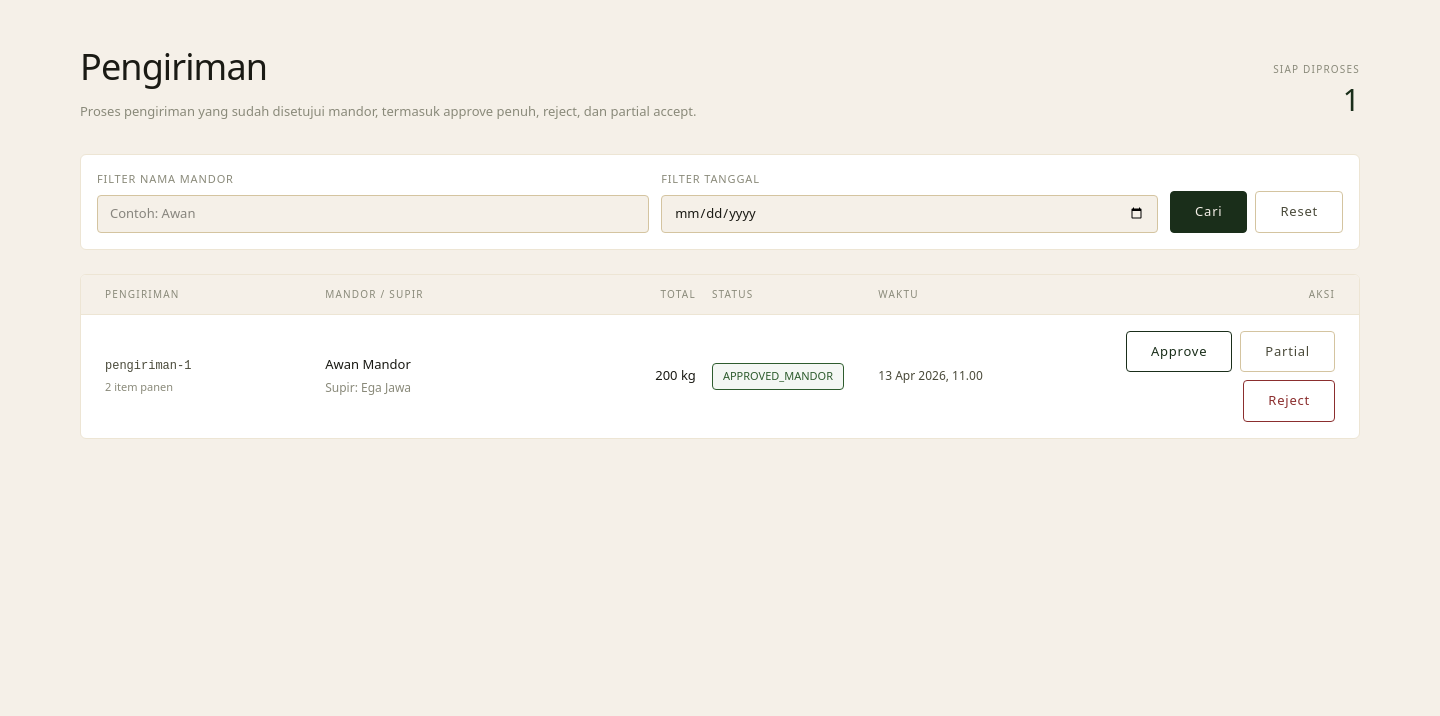
it: AdminPengirimanPage › validates partial accept input before submitting
Click the button "Partial" at [1288, 351], box [1240,330,1335,372]
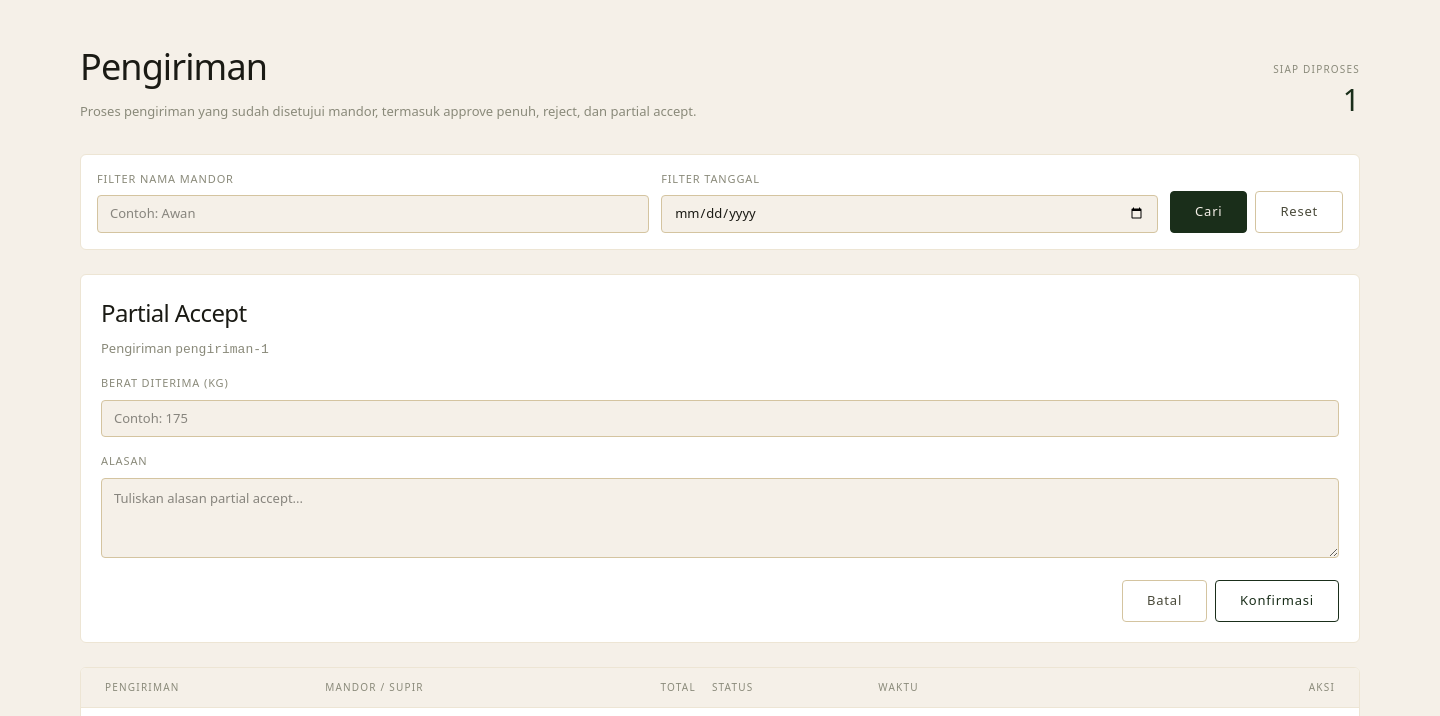
Click the button "Konfirmasi" at [1277, 601], box [1215,580,1339,622]
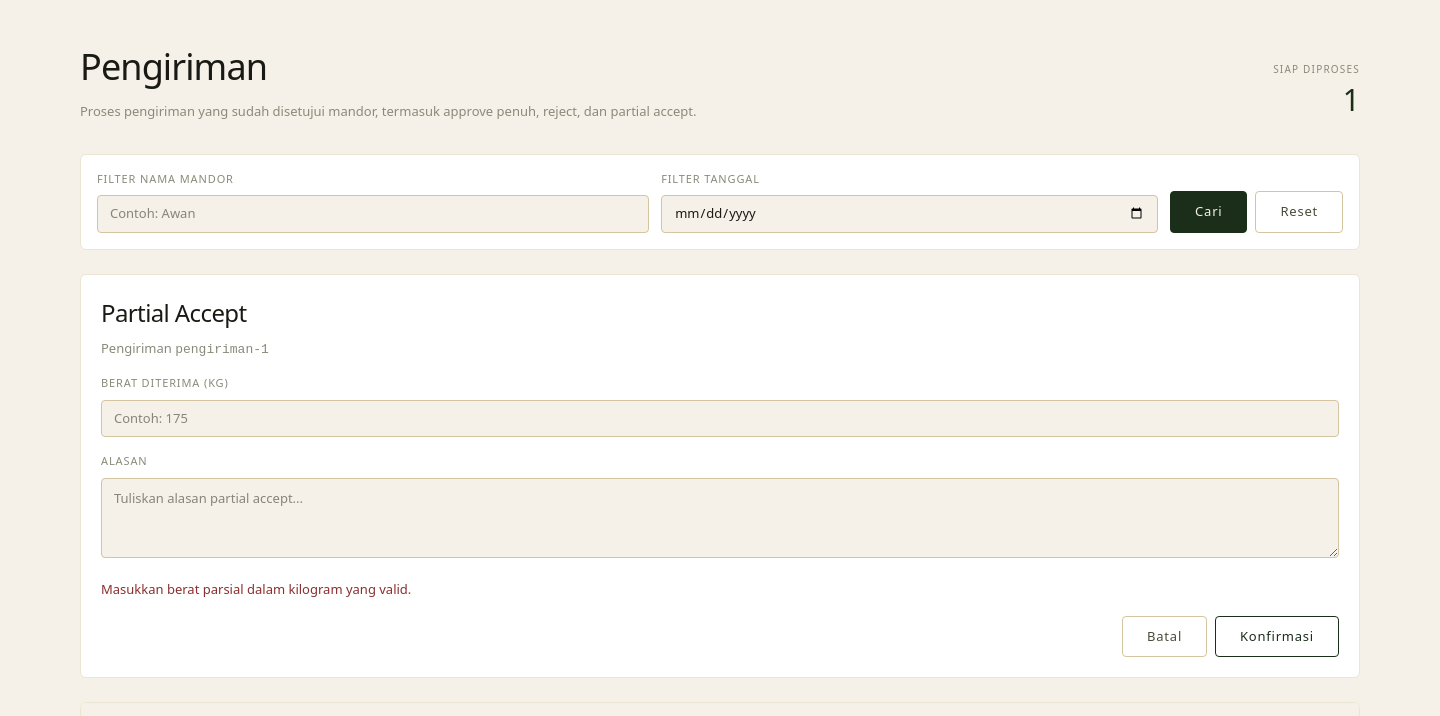
Expected: the text "Masukkan berat parsial dalam kilogram yang valid." is shown, [101,580,411,598]
Type "200" into the field with placeholder "Contoh: 175" at [720, 418], box [101,400,1339,437]
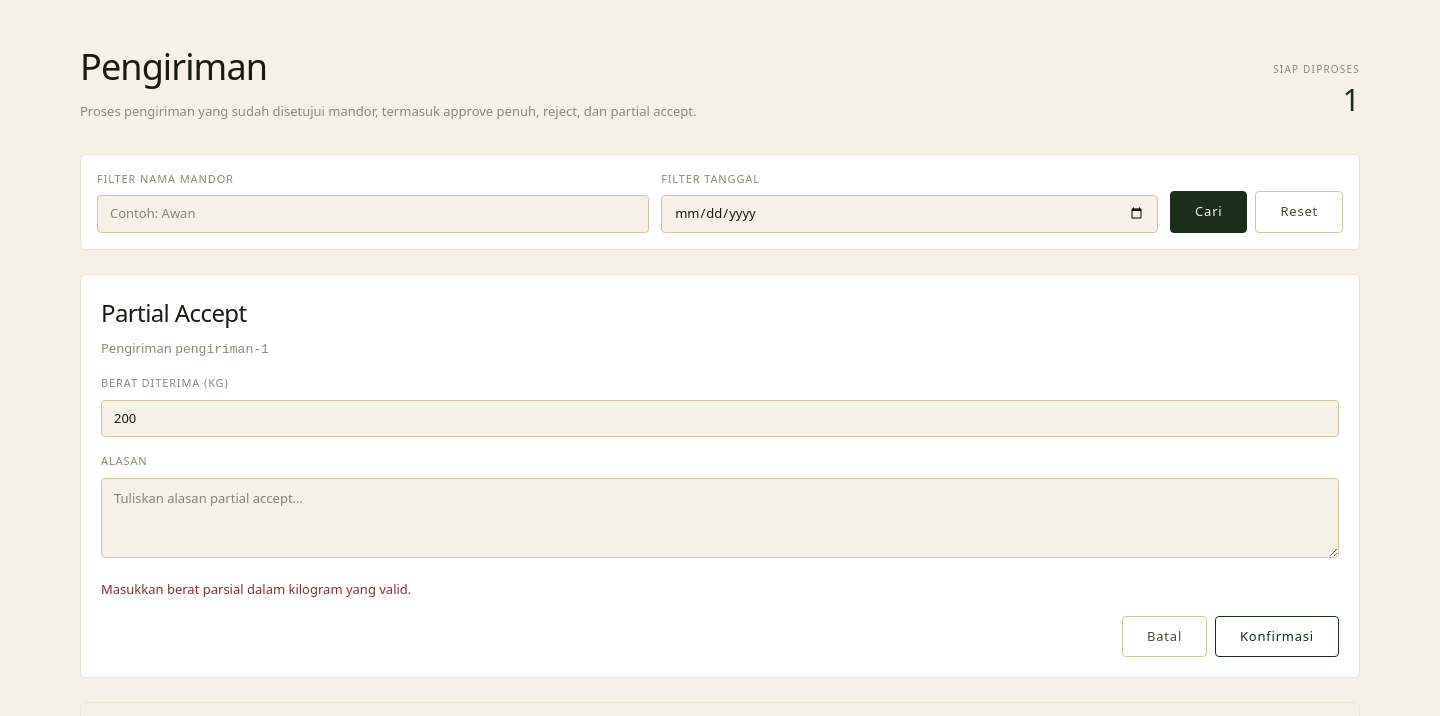
Click the button "Konfirmasi" at [1277, 636], box [1215,616,1339,657]
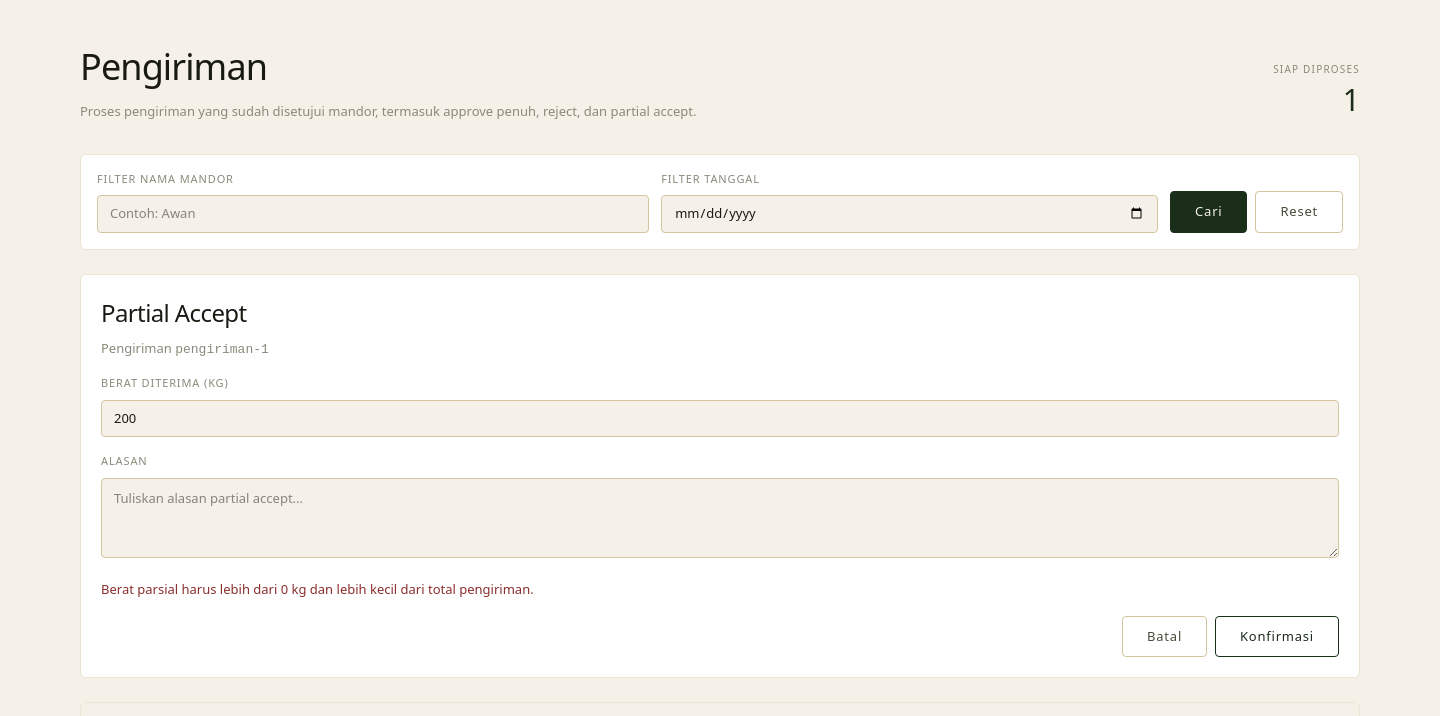
Expected: the text "lebih kecil dari total pengiriman" is shown, [101,580,534,598]
Replace the text in the field with placeholder "Contoh: 175" with "175" at [720, 418], box [101,400,1339,437]
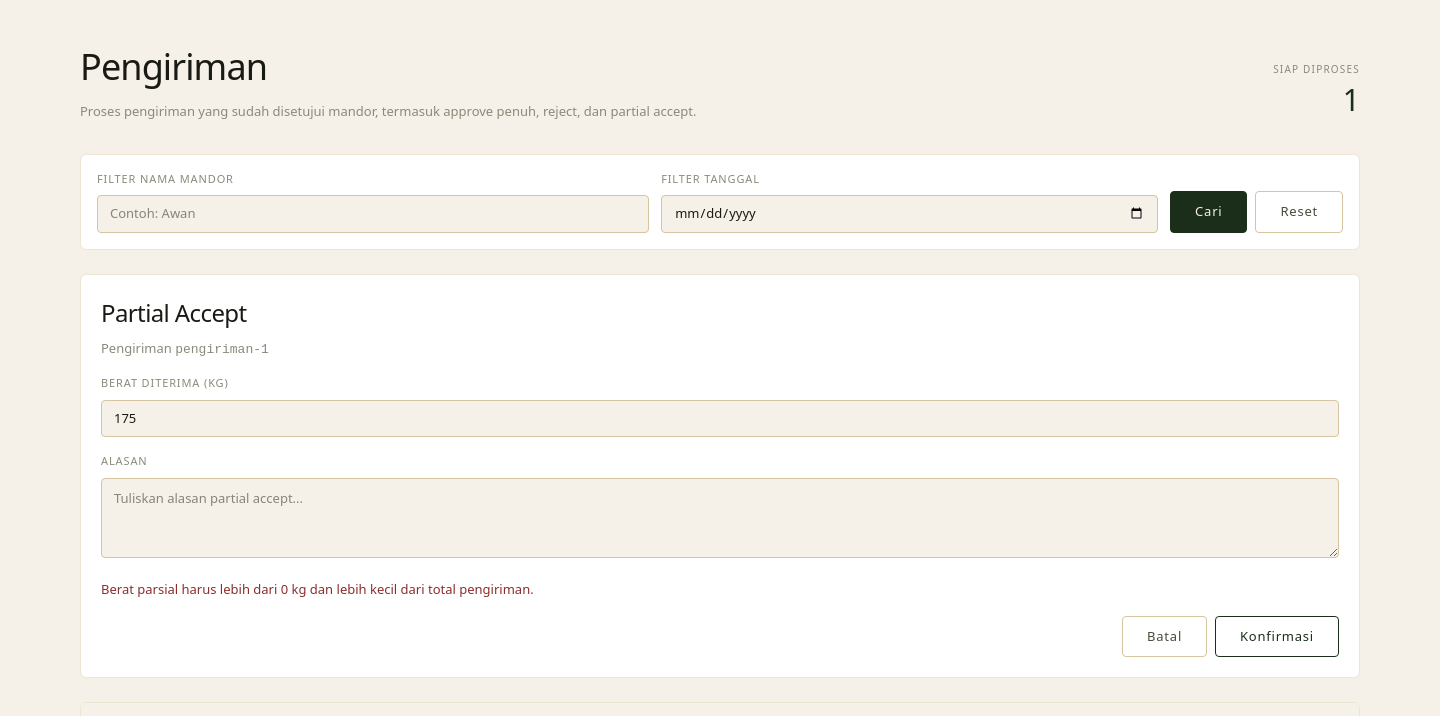
Click the button "Konfirmasi" at [1277, 636], box [1215,616,1339,657]
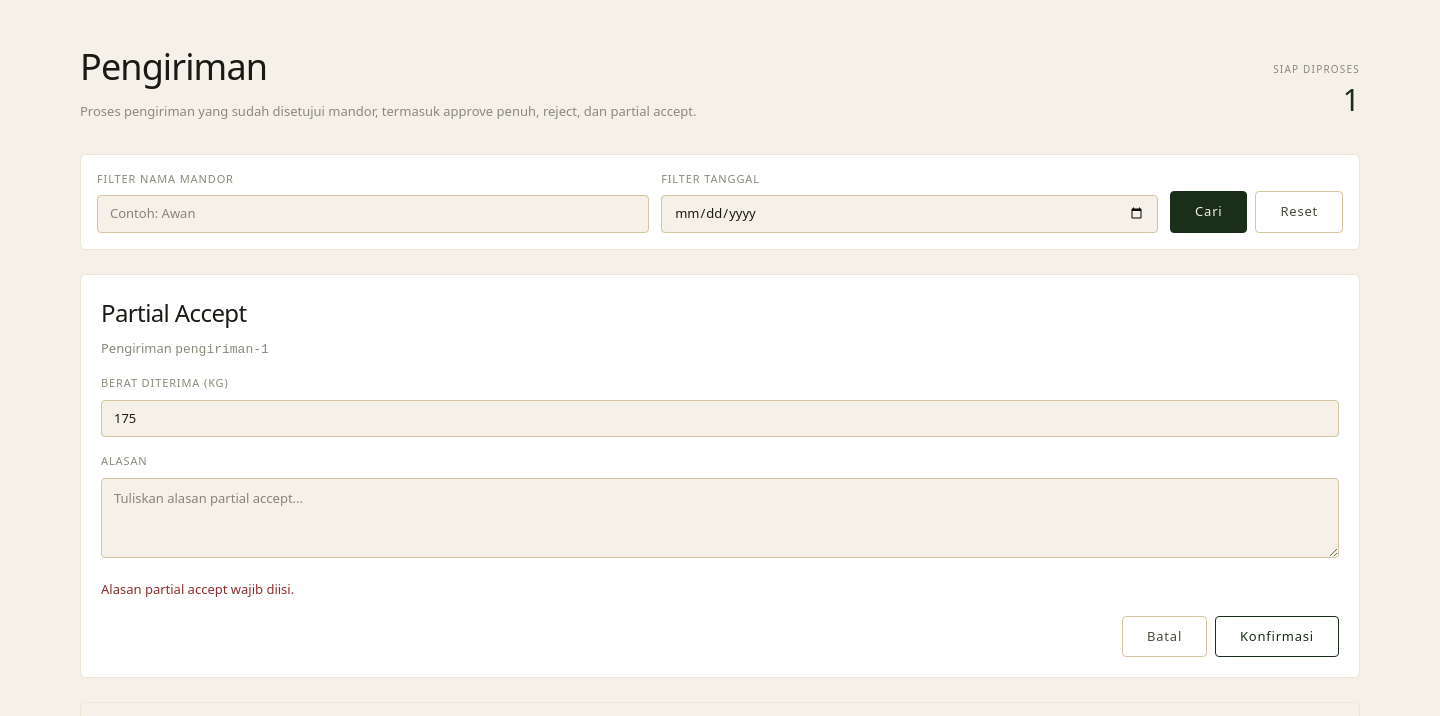
Expected: the text "Alasan partial accept wajib diisi." is shown, [101,580,294,598]
